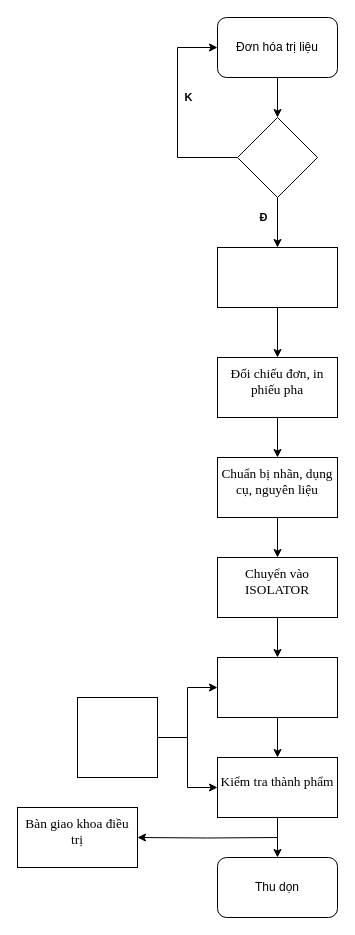
This 355x935 diagram has some shape labels left out. Here are the shapes that lost their labels. From the top down, the centre of each, then its label:
At (x=277, y=157): "Duyệt".
At (x=277, y=277): "Tập hợp, đối chiếu phiếu xuất, lĩnh thuốc".
At (x=277, y=687): "Pha thuốc".
At (x=117, y=737): "Giám sát".
